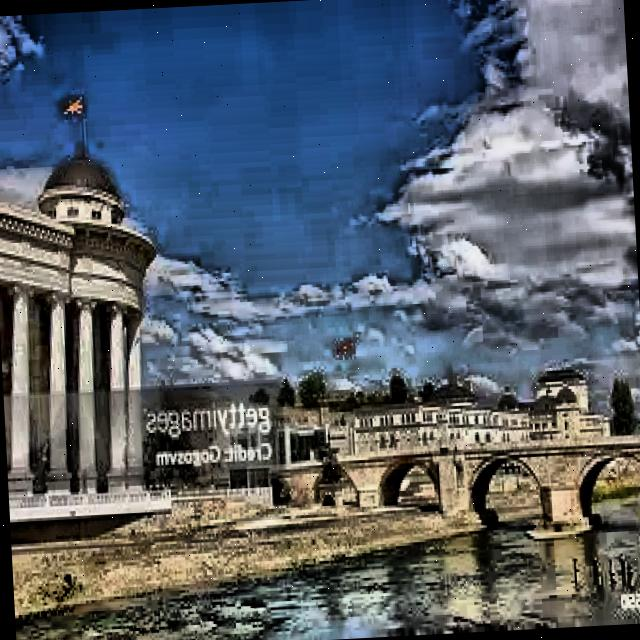stone bridge: (271, 428, 640, 522)
